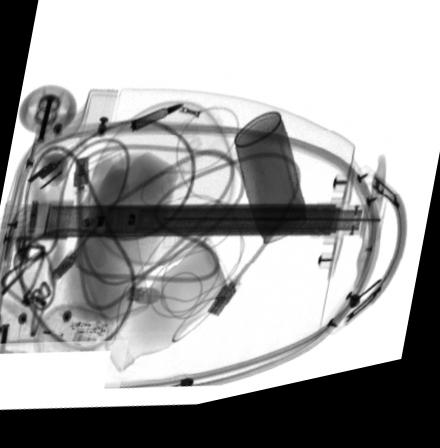Bullet: (130, 112, 185, 138)
